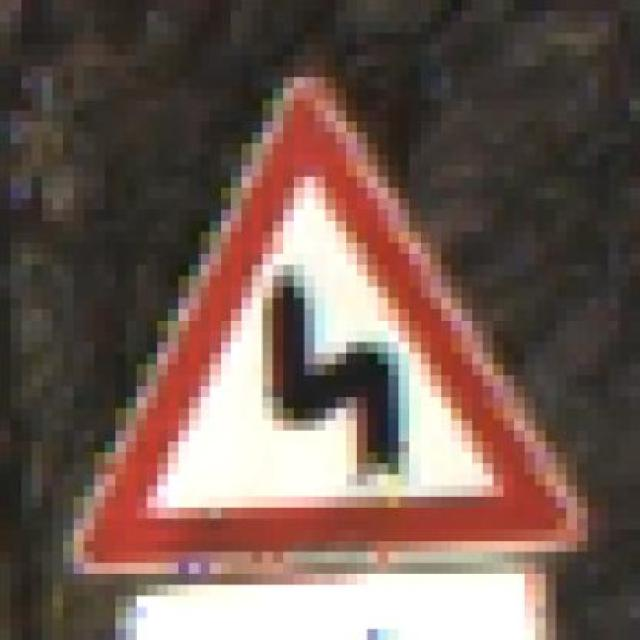Left Zig Zag Traffic: (52, 66, 610, 563)
